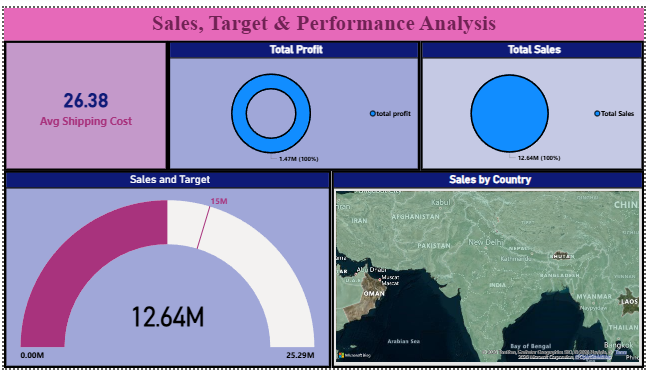

Layout of this report page (visuals, bound fields, positions):
{"tool":"powerbi","page":{"name":"Page 1","canvas":[1280,720],"ordinal":0},"visuals":[{"type":"filledMap","title":" Sales by Country","fields":{"Category":["Orders.Country"]},"box":[654.5,325.2,625.7,395.2],"z":0},{"type":"gauge","title":" Sales and Target","fields":{"Y":["Sum(Orders.Sales)"],"TargetValue":["Orders.Target"]},"box":[0,325.2,654.5,395.2],"z":1000},{"type":"pieChart","fields":{"Y":["Orders.Total Sales"]},"box":[832.9,64.5,447.3,260.7],"z":2000},{"type":"donutChart","title":"Total Profit","fields":{"Y":["Orders.total profit"]},"box":[328,64.5,505,260.7],"z":3000},{"type":"card","fields":{"Values":["Orders.Avg Shipping Cost"]},"box":[0,64.5,328,260.7],"z":4000},{"type":"textbox","box":[0,0,1280.3,64.5],"z":5000}]}

Visuals, with their boxes in screenshot pixels (x1, y1, x2, y2), scaled from the page's 1280x720 canvas onto the 650x373 screenshot:
" Sales by Country" filledMap: <box>332,168,649,372</box>
" Sales and Target" gauge: <box>0,168,332,372</box>
pieChart - Orders.Total Sales: <box>423,33,649,168</box>
"Total Profit" donutChart: <box>167,33,423,168</box>
card - Orders.Avg Shipping Cost: <box>0,33,167,168</box>
textbox: <box>0,0,649,33</box>
